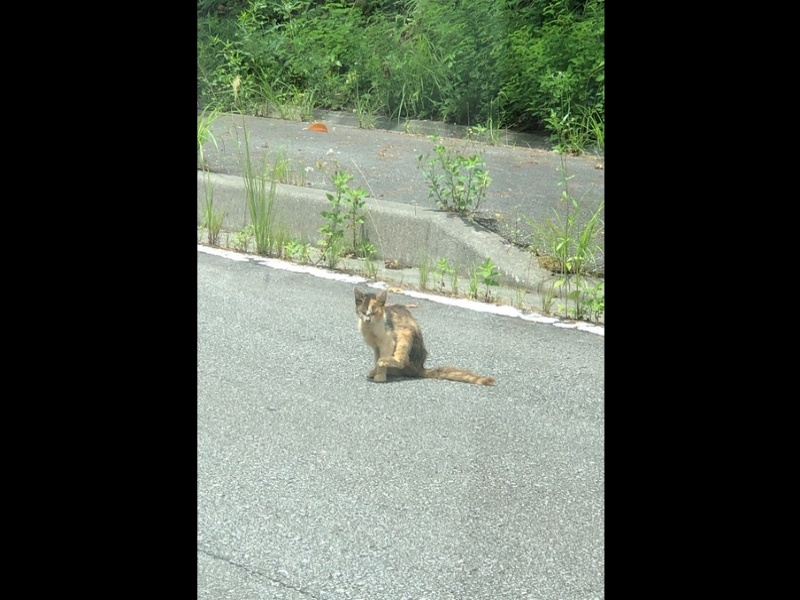cat: (348, 288, 496, 389)
